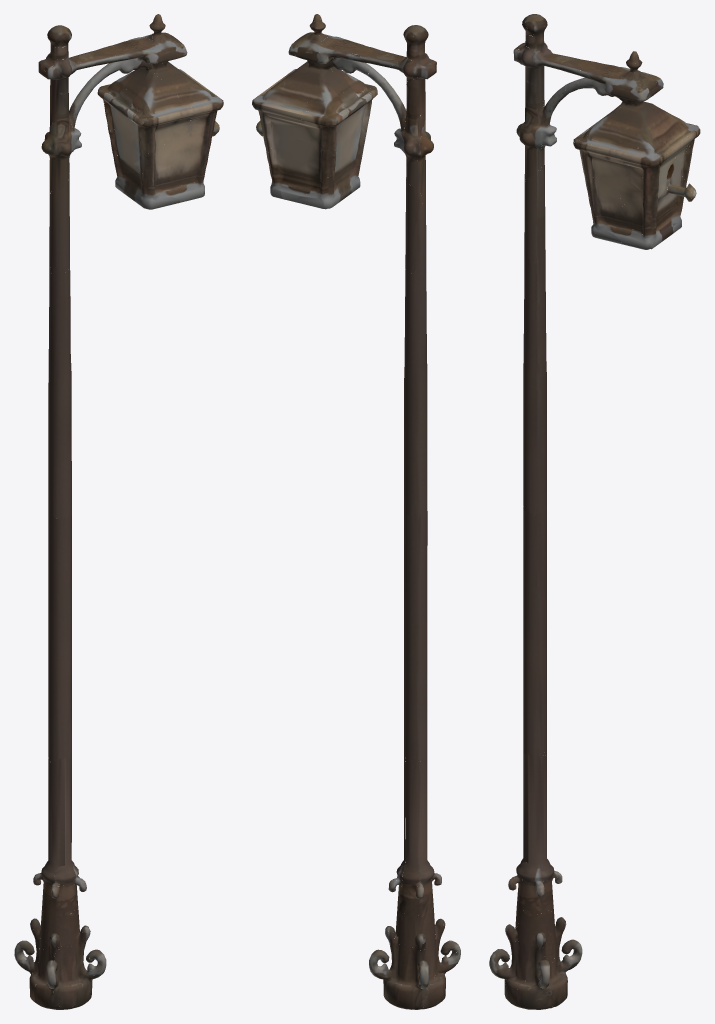
Rendered from mn_streetlamp.glb.
The picture shows the model from 3 angles, left to right: view 1: azimuth 30°, elevation 25°; view 2: azimuth 150°, elevation 25°; view 3: azimuth 330°, elevation 25°; orthographic projection.
Parts seen in each view (by area): view 1: mn_streetlamp; view 2: mn_streetlamp; view 3: mn_streetlamp.
Part boxes in pixels (x1,y1,x2,y2): mn_streetlamp: [14, 14, 223, 1009]; mn_streetlamp: [252, 14, 460, 1009]; mn_streetlamp: [489, 14, 700, 1009].
Size of the model in its own units: 0.2018 by 0.9999 by 0.0895.
1 material, 1 textured.
